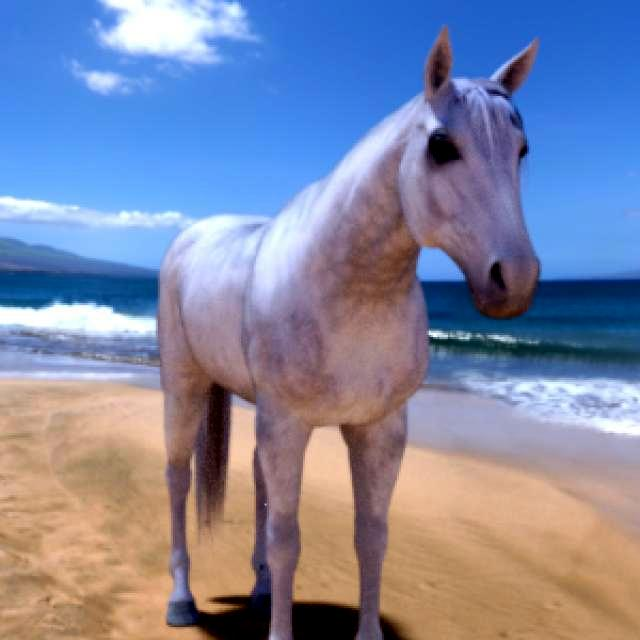horse: (159, 29, 539, 640)
